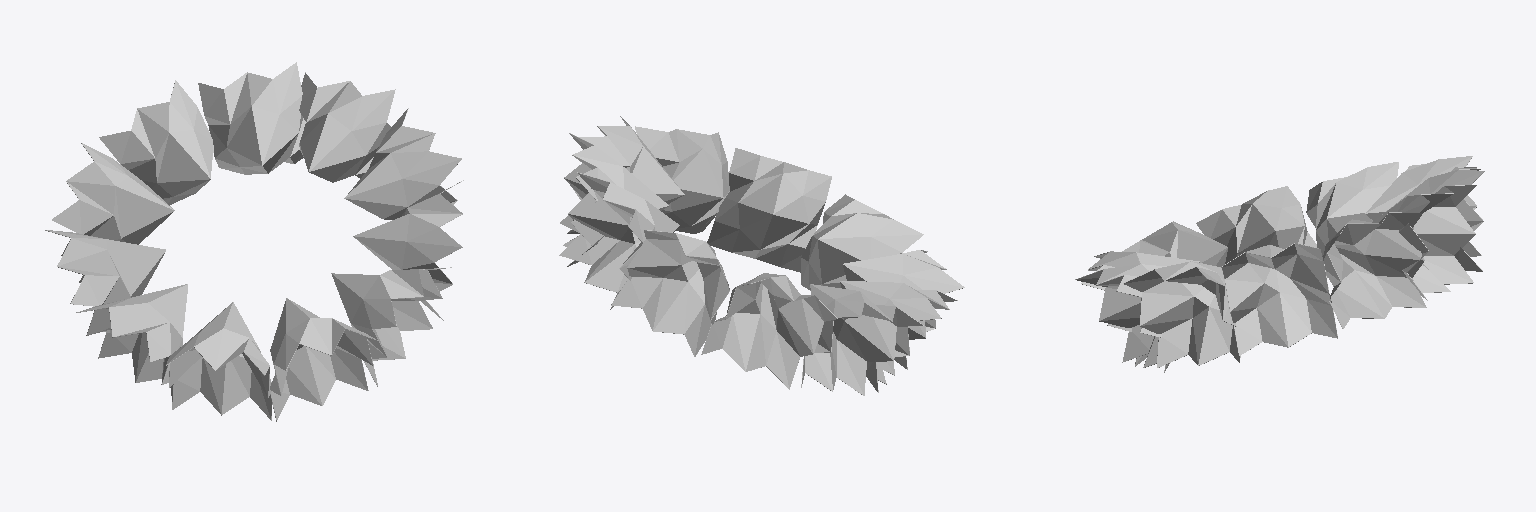
Rendered from flower_nec.obj.
3 renders of one model, left to right at view 1: azimuth 30°, elevation 25°; view 2: azimuth 150°, elevation 25°; view 3: azimuth 270°, elevation 25°, orthographic.
Visible parts, largest first — view 1: Plane; view 2: Plane; view 3: Plane.
Part boxes in pixels (x1,y1,x2,y2): Plane: (45,62,463,421); Plane: (559,116,964,395); Plane: (1075,156,1484,372).
Bounding box in the file's own units: 0.488 × 0.2911 × 0.4886.